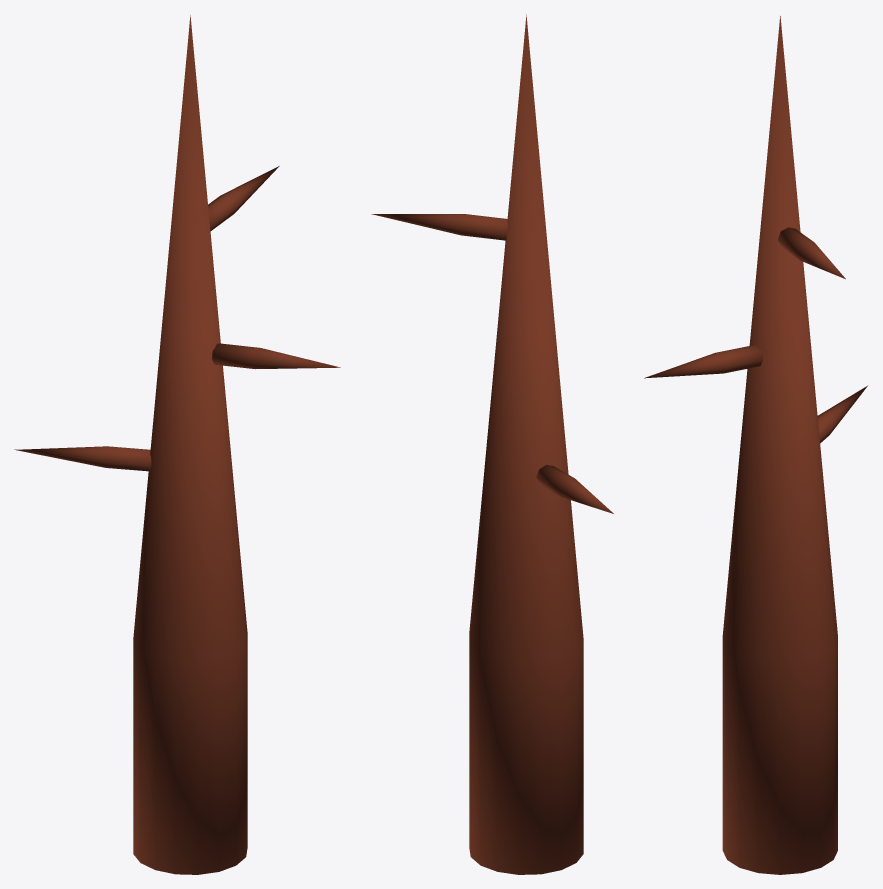
Rendered from low_poly_tree2-CCwayMJR.glb.
The picture shows the model from 3 angles, left to right: view 1: azimuth 30°, elevation 25°; view 2: azimuth 150°, elevation 25°; view 3: azimuth 270°, elevation 25°; orthographic projection.
Visible parts, largest first — view 1: Cylinder, Cylinder.002, Cylinder.003, Cylinder.001; view 2: Cylinder, Cylinder.001, Cylinder.002; view 3: Cylinder, Cylinder.003, Cylinder.001, Cylinder.002.
Part boxes in pixels (bbox=[...]): Cylinder: bbox=[133, 15, 247, 874]; Cylinder.002: bbox=[14, 446, 151, 471]; Cylinder.003: bbox=[212, 343, 340, 369]; Cylinder.001: bbox=[208, 166, 279, 230]; Cylinder: bbox=[469, 14, 583, 874]; Cylinder.001: bbox=[371, 214, 507, 240]; Cylinder.002: bbox=[536, 464, 613, 513]; Cylinder: bbox=[722, 16, 837, 874]; Cylinder.003: bbox=[644, 345, 762, 378]; Cylinder.001: bbox=[778, 227, 845, 279]; Cylinder.002: bbox=[817, 385, 867, 443].
Size of the model in its own units: 2.55 by 8 by 1.95.
